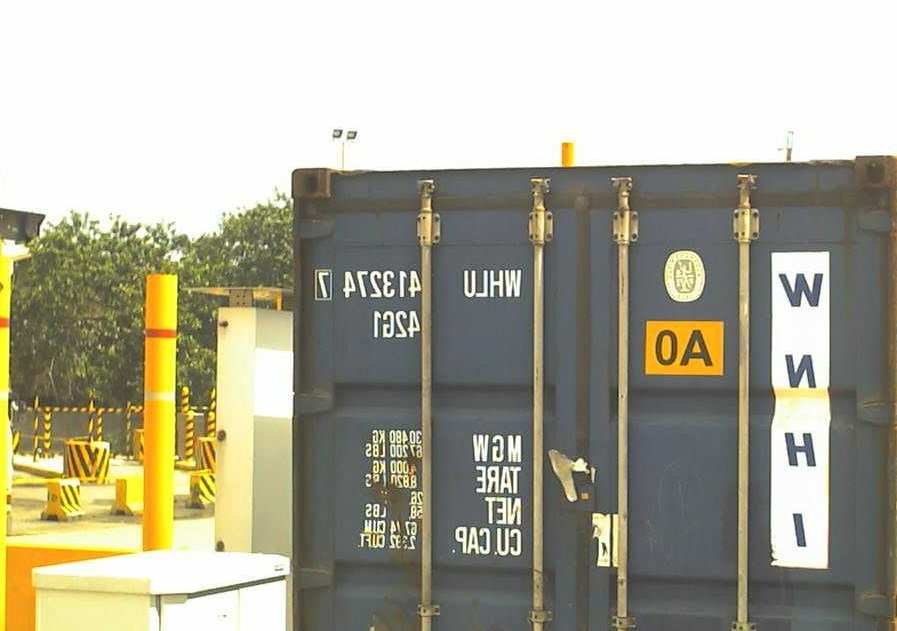container_door: (288, 164, 892, 624)
